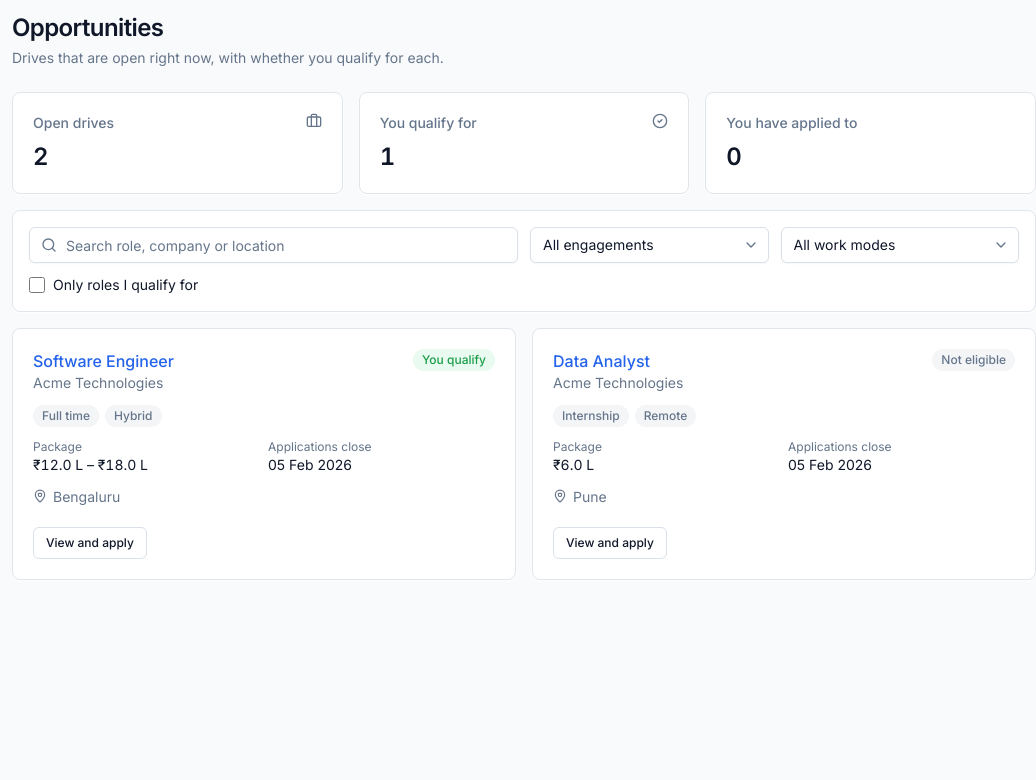
Student jobs page › can hide the drives the student does not qualify for
This screenshot has width=1036, height=780.
expect the link "Data Analyst" is shown: met, box 553,351 -> 650,371
Click the checkbox labelled "Only roles I qualify for".
click(37, 285)  # box 29,277 -> 45,293
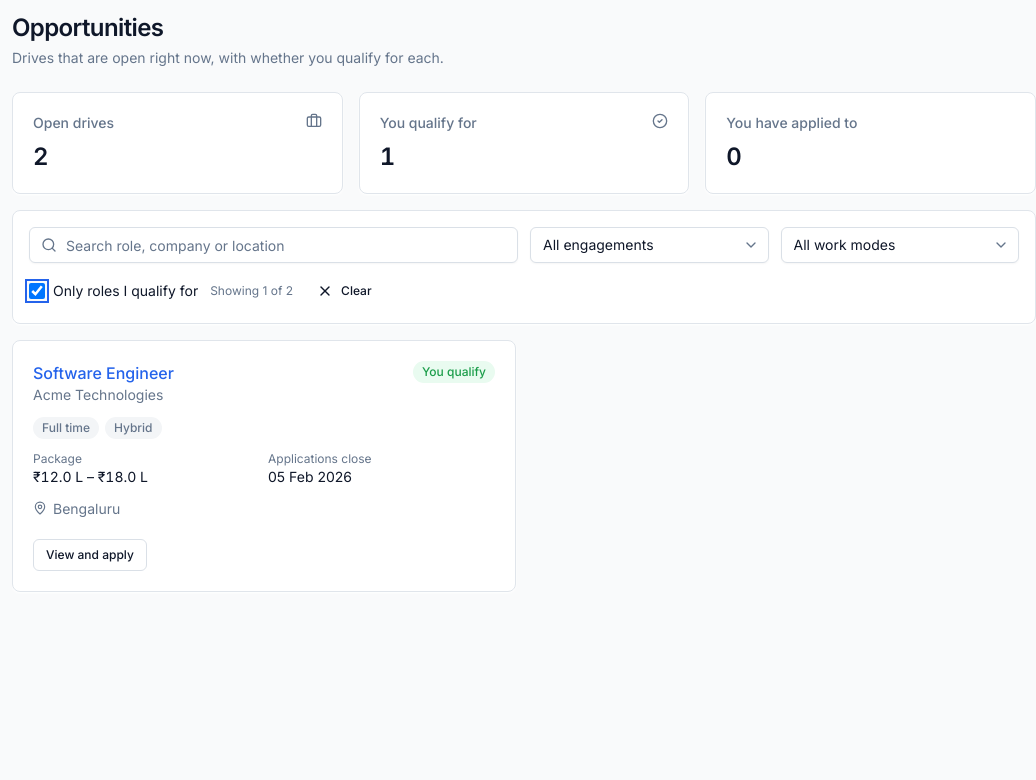
expect the link "Software Engineer" is shown: met, box 33,361 -> 174,385
expect the link "Data Analyst" is gone: met
